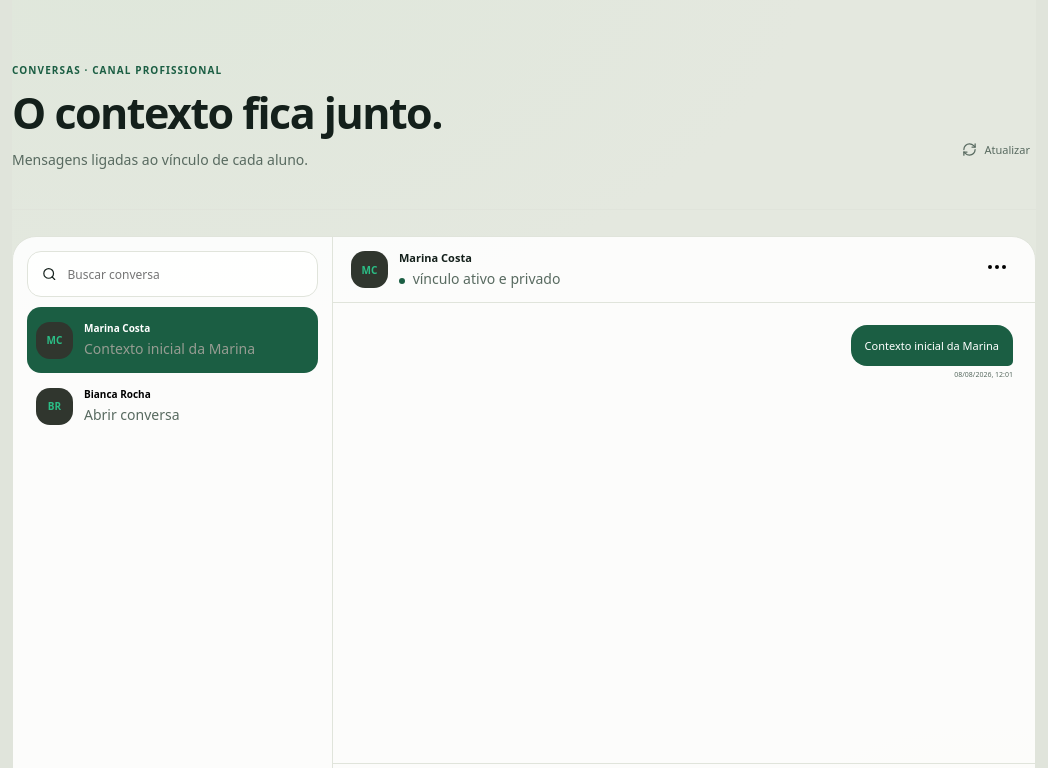
Scenario: live conversation recovery › keeps a late Marina refresh out of Bianca’s active conversation
Expected: the 2nd text "Contexto inicial da Marina" is shown, 851,325 -> 1013,366
Click the button "BR Bianca Rocha Abrir conversa". click: point(172, 406)
box: 27,373 -> 318,439
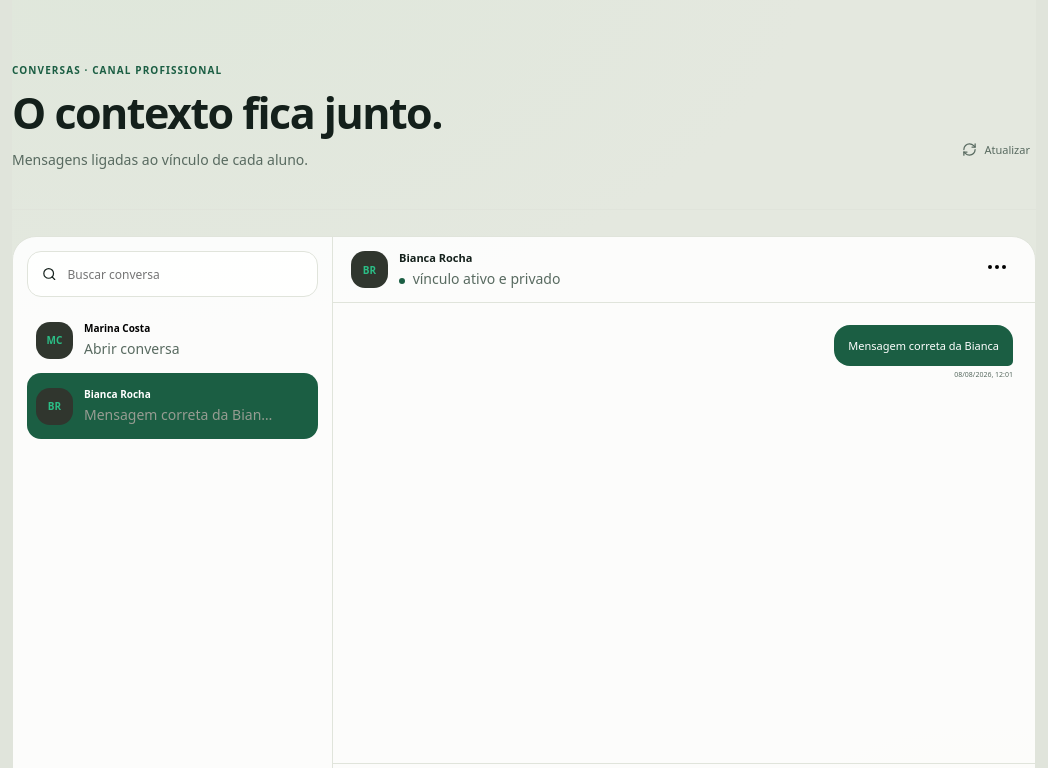
Now the 1st text "Mensagem correta da Bianca" is shown, box 834,325 -> 1013,366
